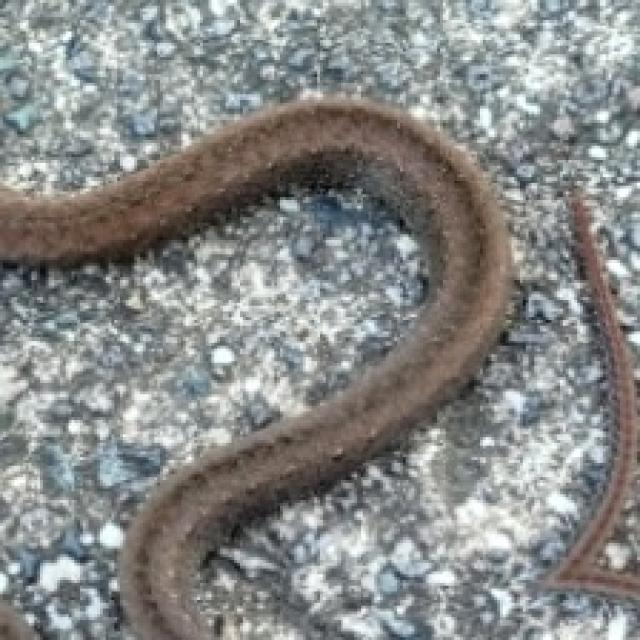reinhardts lined snake: (0, 97, 511, 637), (537, 191, 637, 600)
